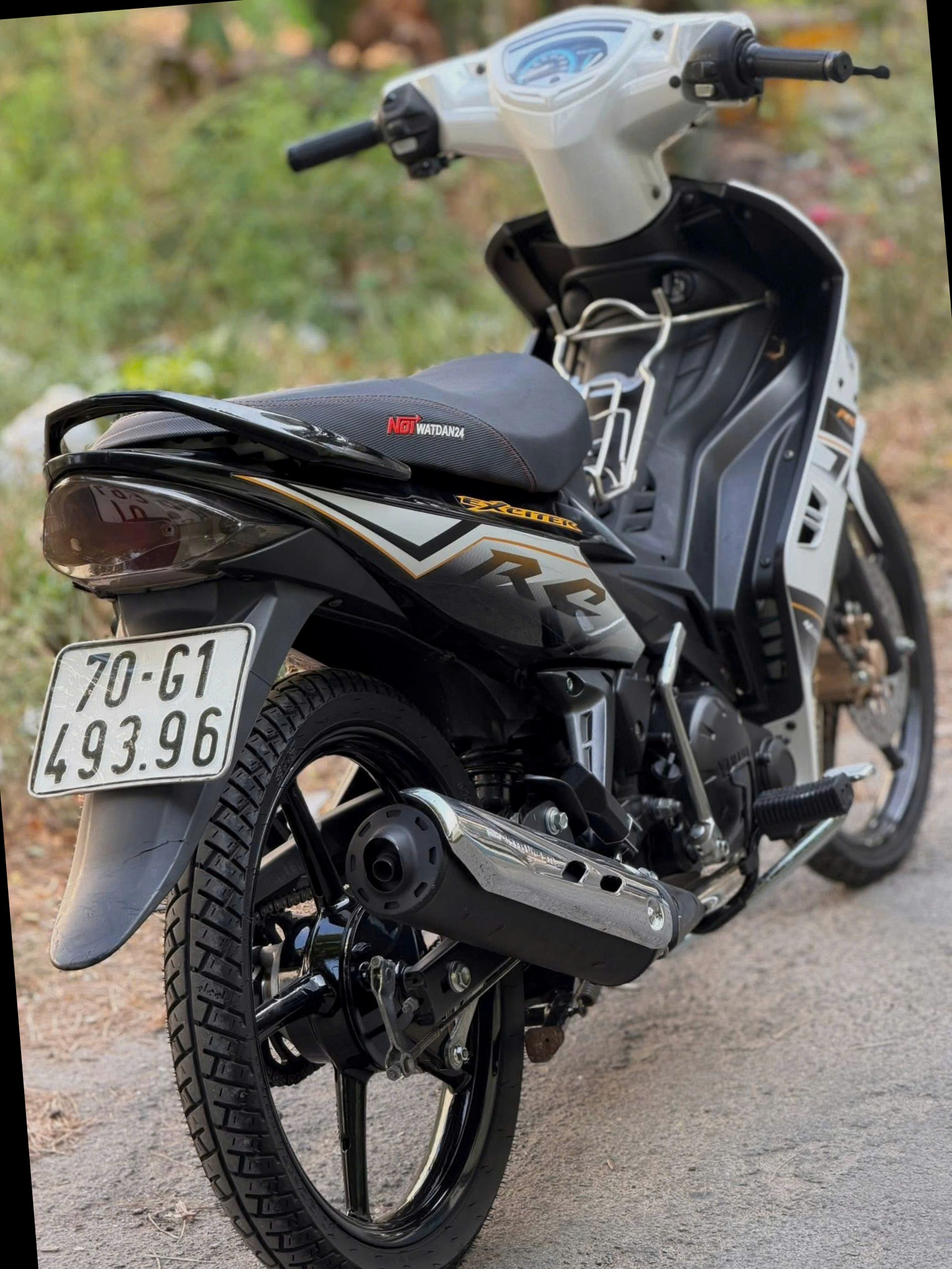Bien-so: (22, 594, 259, 738)
